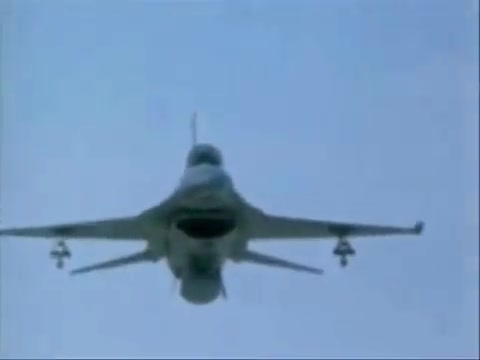aeroplane: (2, 111, 427, 304)
